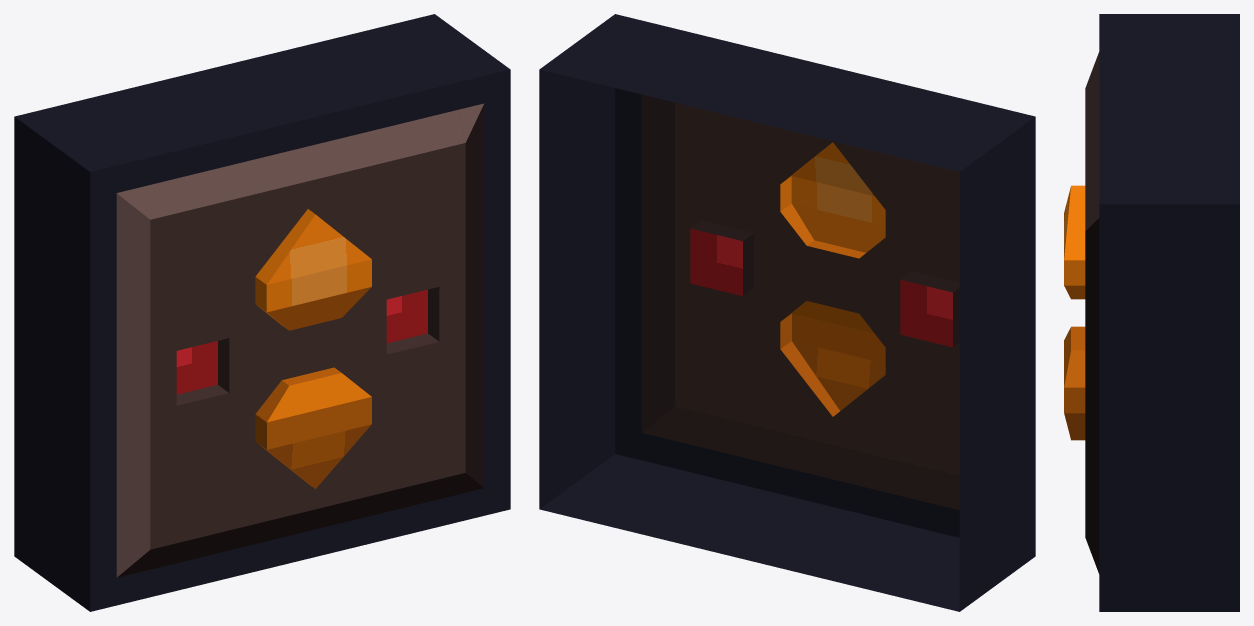
The model's file is switch_elev3.fbx.
The picture shows the model from 3 angles, left to right: view 1: azimuth 30°, elevation 25°; view 2: azimuth 150°, elevation 25°; view 3: azimuth 270°, elevation 25°; orthographic projection. The views are drawn at different scales.
Parts seen in each view (by area): view 1: elev3_up; view 2: elev3_up; view 3: elev3_up.
Part boxes in pixels (box(x1,y1,x2,y2)): elev3_up: box(14, 14, 510, 611); elev3_up: box(539, 14, 1035, 611); elev3_up: box(1064, 14, 1239, 611).
Size of the model in its own units: 64 by 64 by 25.
